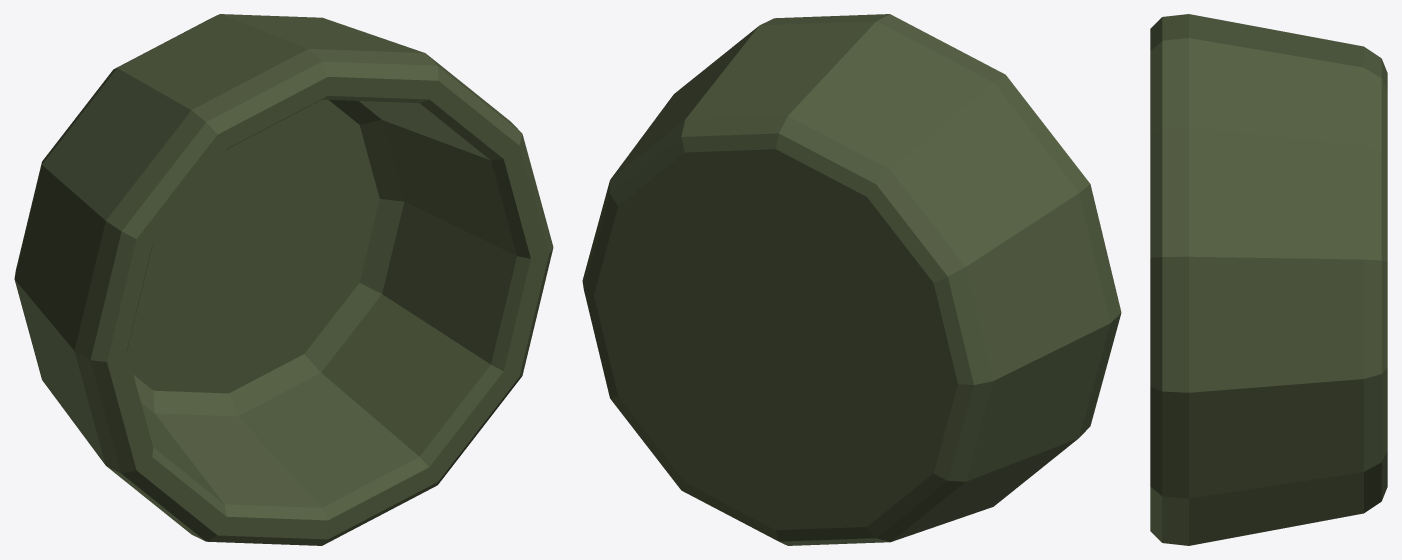
File: pet_bowl.glb
3 renders of one model, left to right at view 1: azimuth 30°, elevation 25°; view 2: azimuth 150°, elevation 25°; view 3: azimuth 270°, elevation 25°, orthographic.
Visible parts, largest first — view 1: pet_bowl; view 2: pet_bowl; view 3: pet_bowl.
Part boxes in pixels (x1,y1,x2,y2): pet_bowl: (14, 14, 553, 545); pet_bowl: (582, 14, 1121, 545); pet_bowl: (1150, 14, 1387, 545).
Size of the model in its own units: 0.18 by 0.18 by 0.08.
